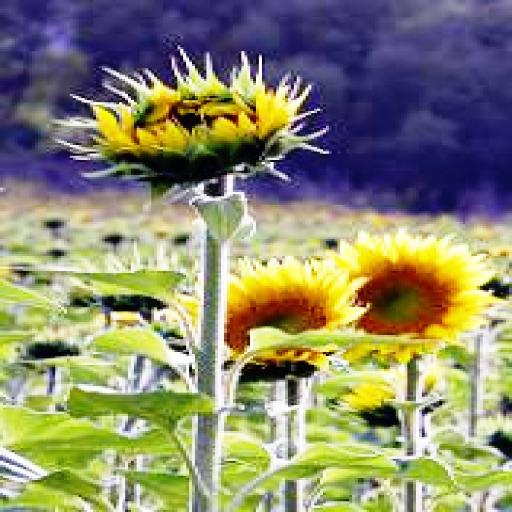sunflower: (70, 58, 317, 172), (317, 232, 492, 360), (186, 260, 358, 363)
